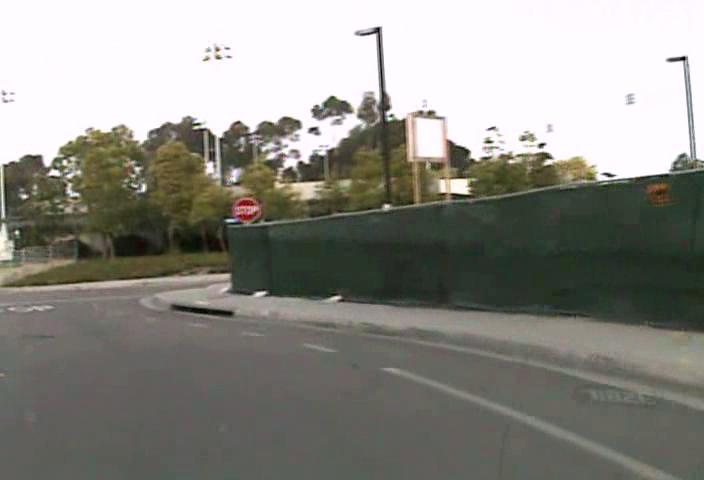stop: (232, 196, 261, 223)
